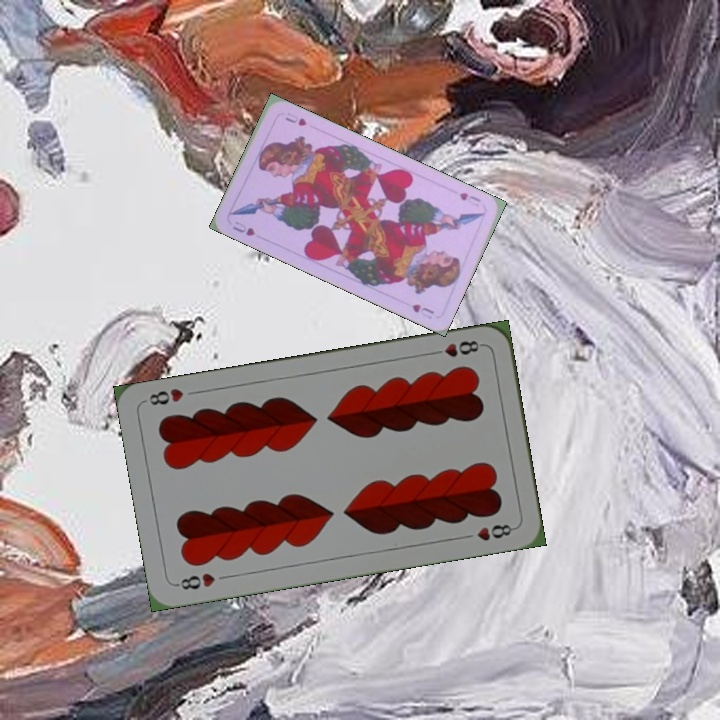H8: (427, 336, 486, 360), (172, 569, 218, 593)
HU: (228, 217, 258, 239), (455, 188, 483, 209)
